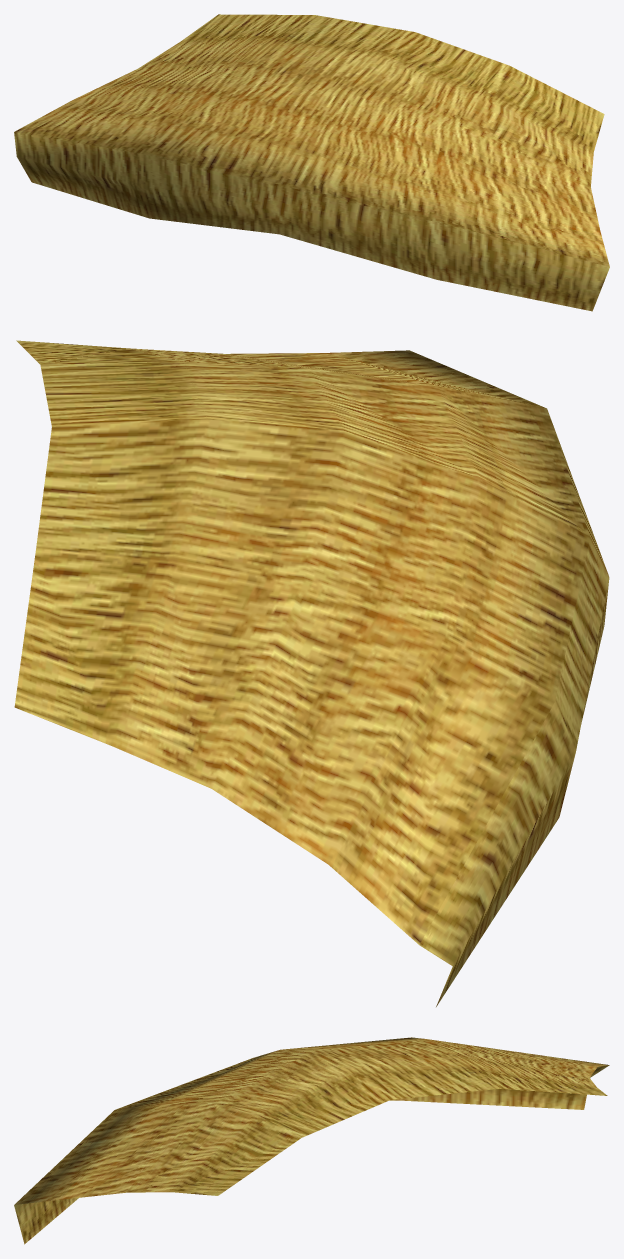
File: HTOWN01_HANNA-AWNING01.fbx
The picture shows the model from 3 angles, top to bottom: view 1: azimuth 30°, elevation 25°; view 2: azimuth 150°, elevation 25°; view 3: azimuth 270°, elevation 25°; orthographic projection. The views are drawn at different scales.
Parts seen in each view (by area): view 1: HTOWN01_HANNA-AWNING01; view 2: HTOWN01_HANNA-AWNING01; view 3: HTOWN01_HANNA-AWNING01.
Part boxes in pixels (x1,y1,x2,y2): HTOWN01_HANNA-AWNING01: (14,14,609,311); HTOWN01_HANNA-AWNING01: (14,340,609,1006); HTOWN01_HANNA-AWNING01: (14,1037,609,1244).
Size of the model in its own units: 31885 by 11584 by 40491.
Materials: 2 (2 with a texture image).
